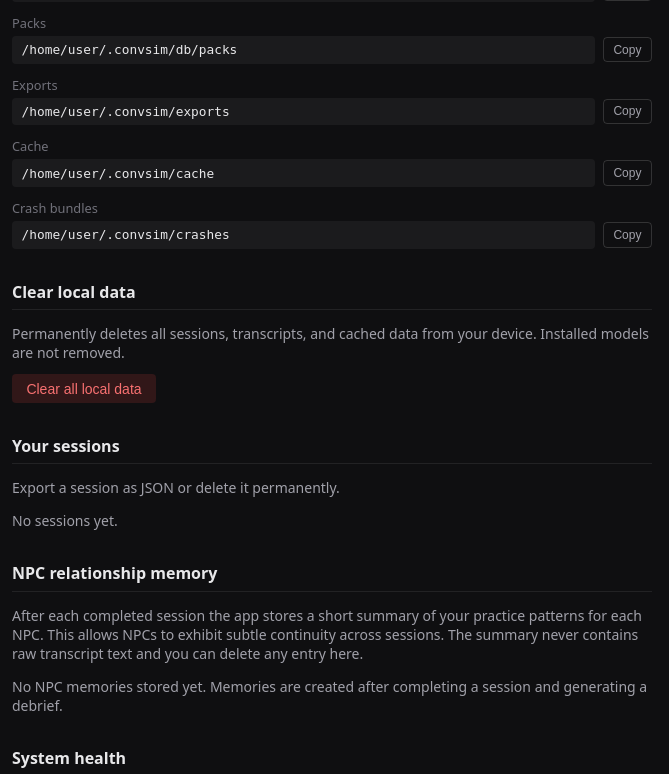
Test: clear local data › shows a confirmation warning on first click
(page scrolled)
Click the button "Clear all local data" at (84, 389), box x1=12 y1=374 x2=156 y2=403
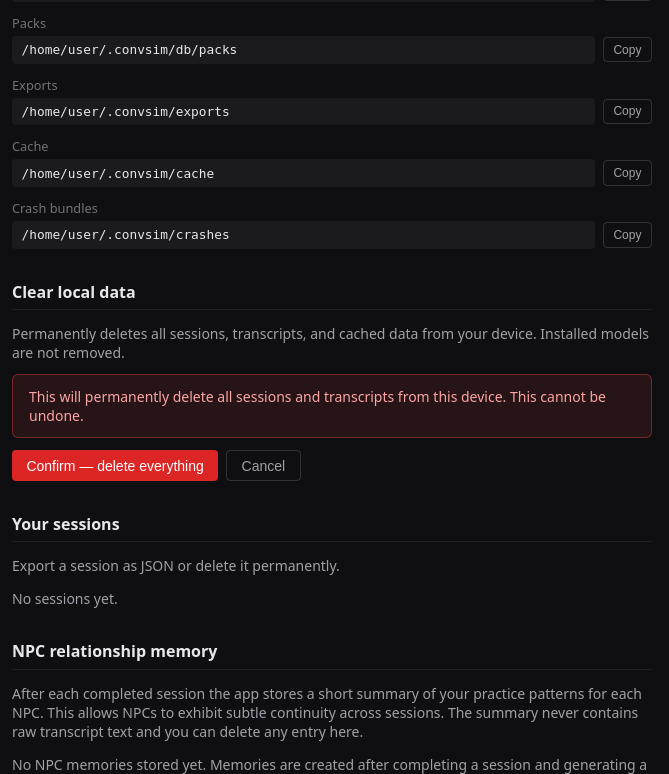
Expected: the message shows "permanently delete all sessions", x1=29 y1=387 x2=606 y2=425
